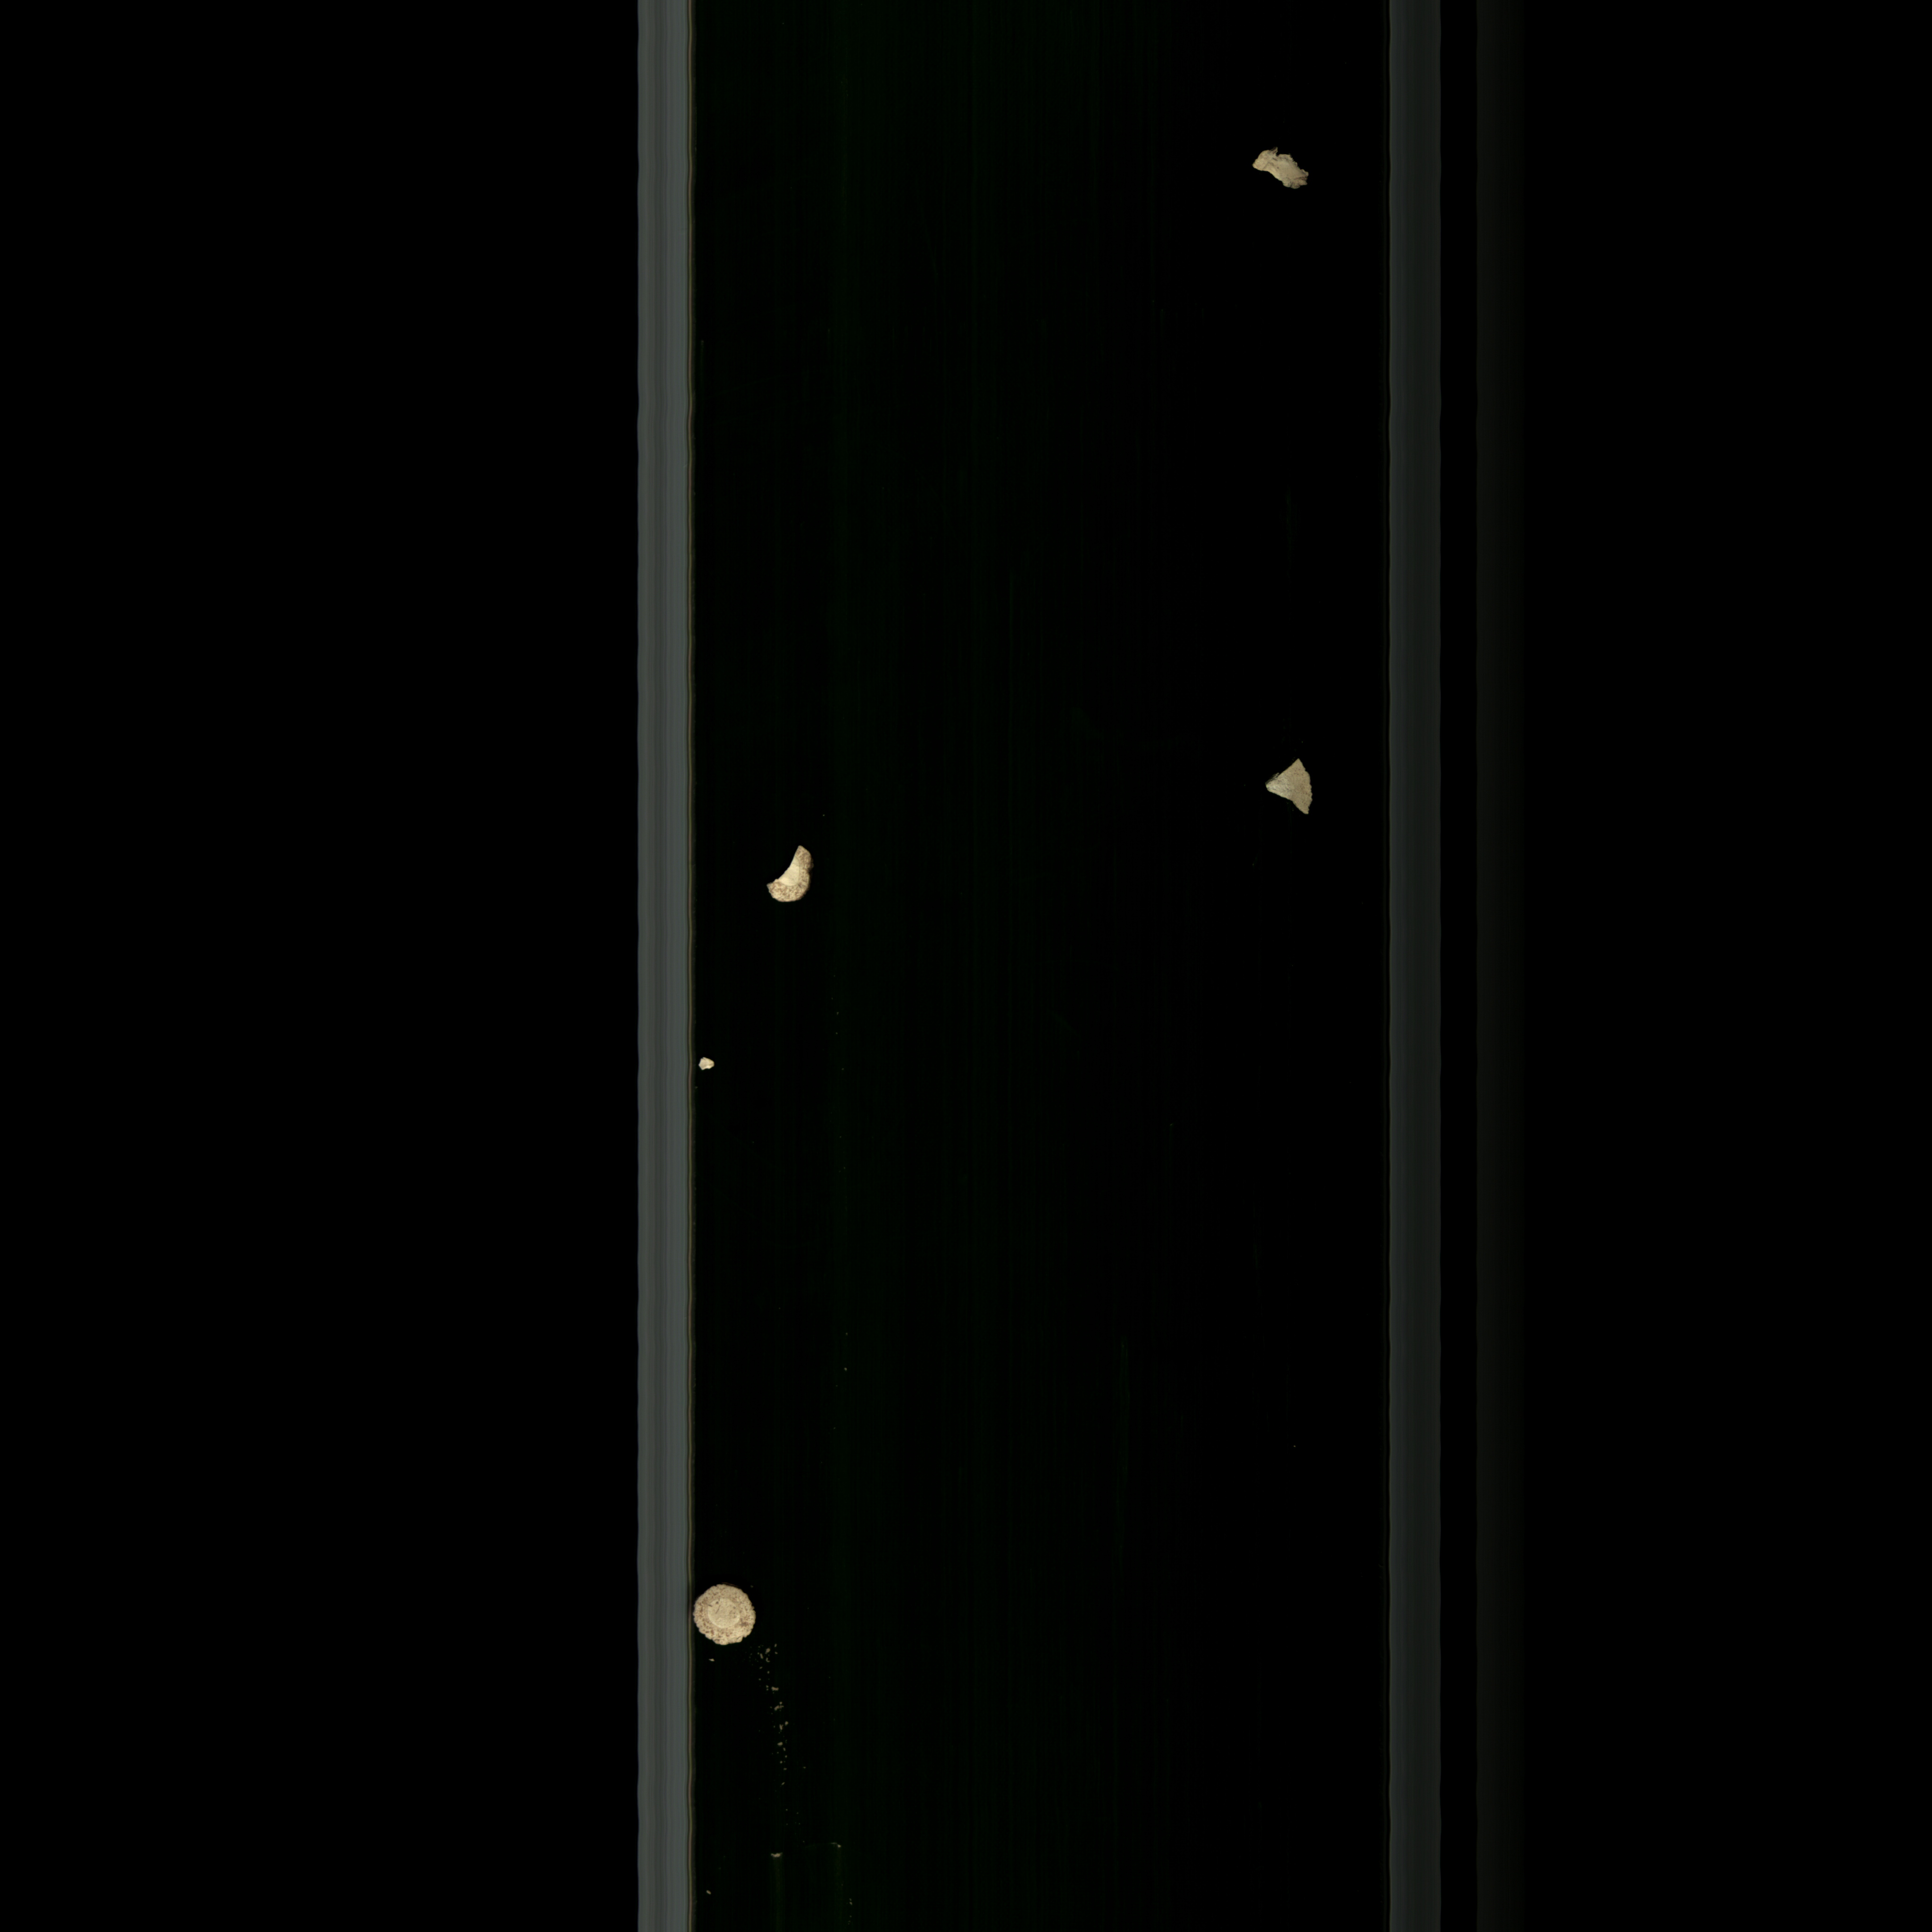debris: (750, 839, 824, 908)
dreg: (1258, 745, 1316, 828), (1249, 136, 1313, 195), (699, 1053, 722, 1074)
